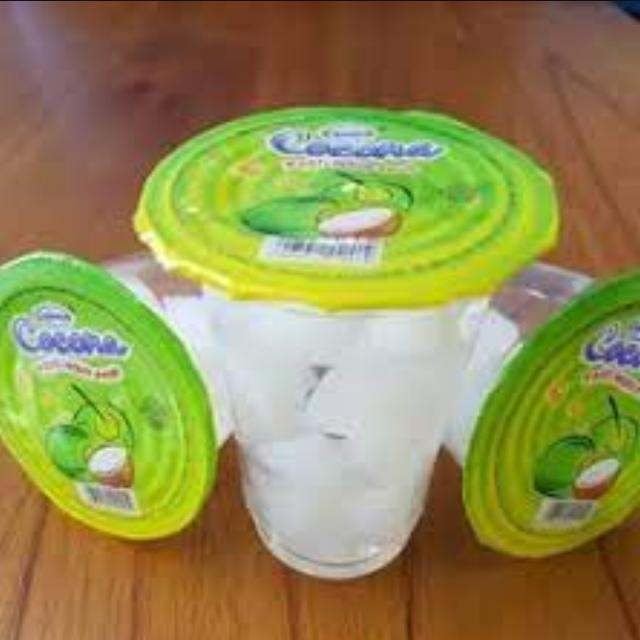GelasPlastik: (136, 99, 560, 577), (0, 248, 221, 542)
